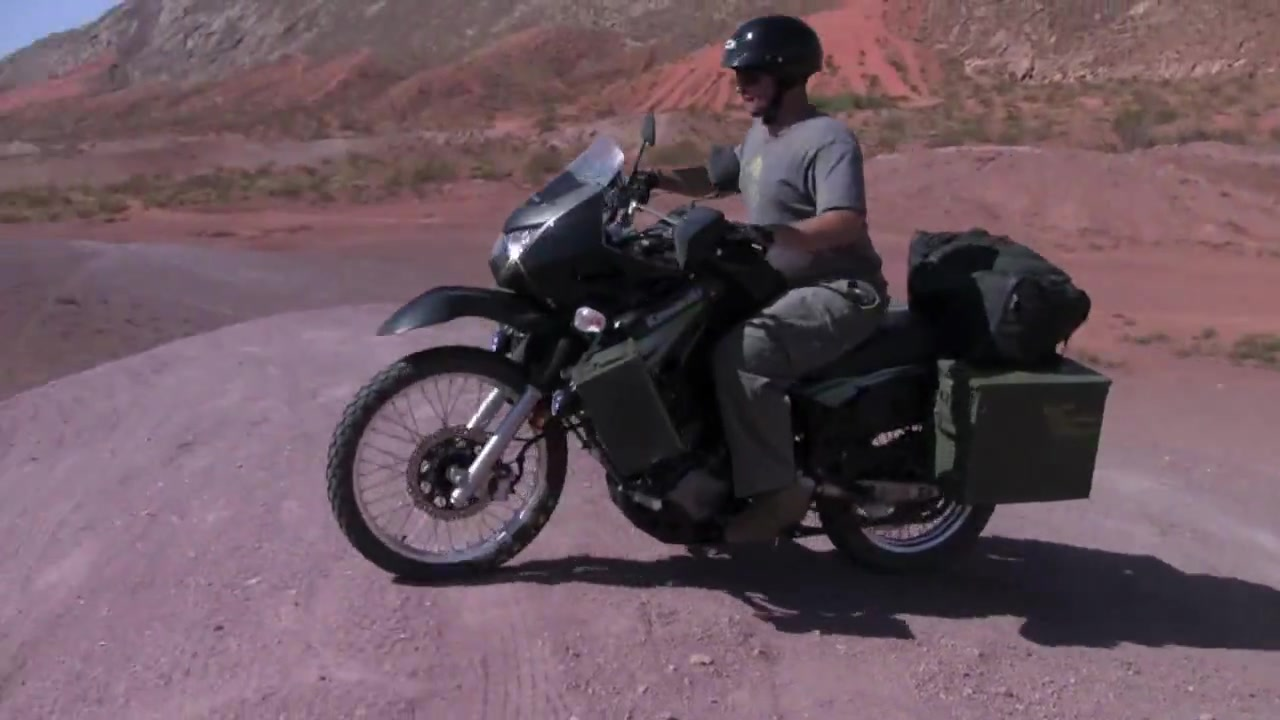motorbike: (323, 113, 1117, 585)
